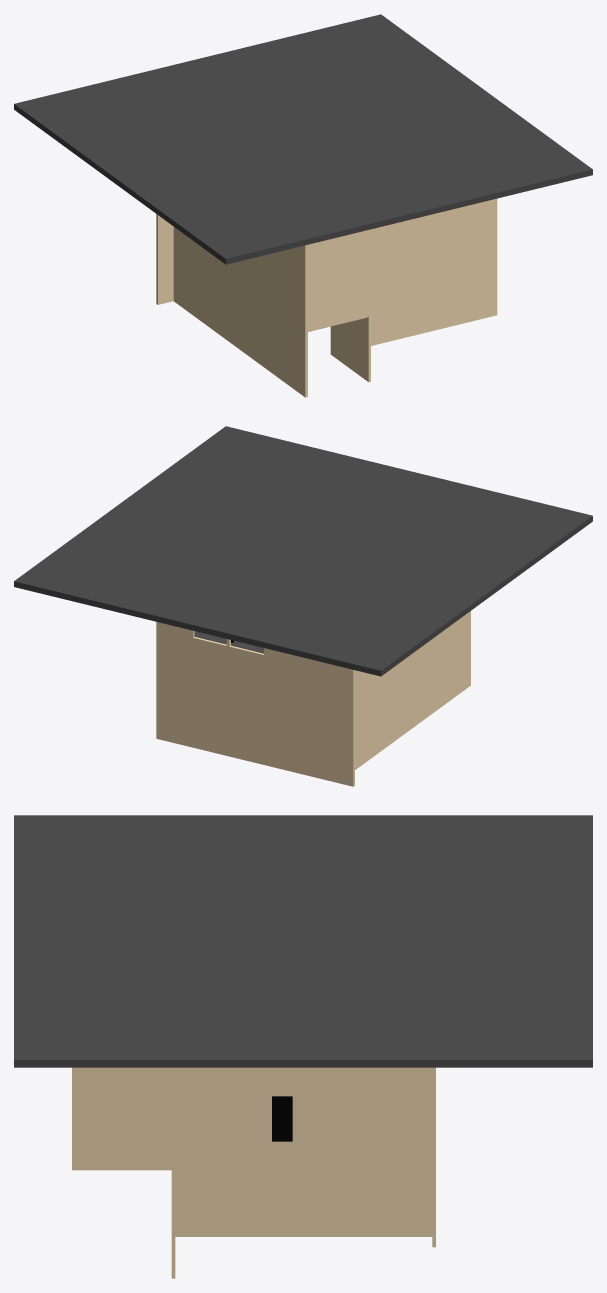
Rendered from rum.fbx.
3 views of the same model, one above another, from view 1: azimuth 30°, elevation 25°; view 2: azimuth 150°, elevation 25°; view 3: azimuth 270°, elevation 25° (orthographic). The views are drawn at different scales.
Parts seen in each view (by area): view 1: Cube.029, Cube, Cube.005, Cube.008, Cube.006, Cube.007, Cube.003; view 2: Cube.029, Cube.003, Cube.005, Cube.006; view 3: Cube.029, Cube.004, Cube.007, Cube, Cube.025, Cube.003.
Boxes of the visible parts, left/top/right/bottom form: Cube.029: left=14, top=14, right=592, bottom=264; Cube: left=330, top=198, right=497, bottom=354; Cube.005: left=173, top=227, right=268, bottom=369; Cube.008: left=306, top=229, right=369, bottom=331; Cube.006: left=268, top=245, right=307, bottom=397; Cube.007: left=331, top=229, right=370, bottom=382; Cube.003: left=156, top=214, right=173, bottom=304; Cube.029: left=14, top=426, right=592, bottom=676; Cube.003: left=156, top=622, right=354, bottom=786; Cube.005: left=355, top=638, right=433, bottom=769; Cube.006: left=433, top=611, right=470, bottom=712; Cube.029: left=14, top=815, right=592, bottom=1067; Cube.004: left=175, top=1067, right=432, bottom=1236; Cube.007: left=72, top=1067, right=171, bottom=1170; Cube: left=171, top=1067, right=175, bottom=1278; Cube.025: left=272, top=1096, right=292, bottom=1141; Cube.003: left=432, top=1067, right=435, bottom=1247.
Size of the model in its own units: 5330 by 2481 by 5330.
